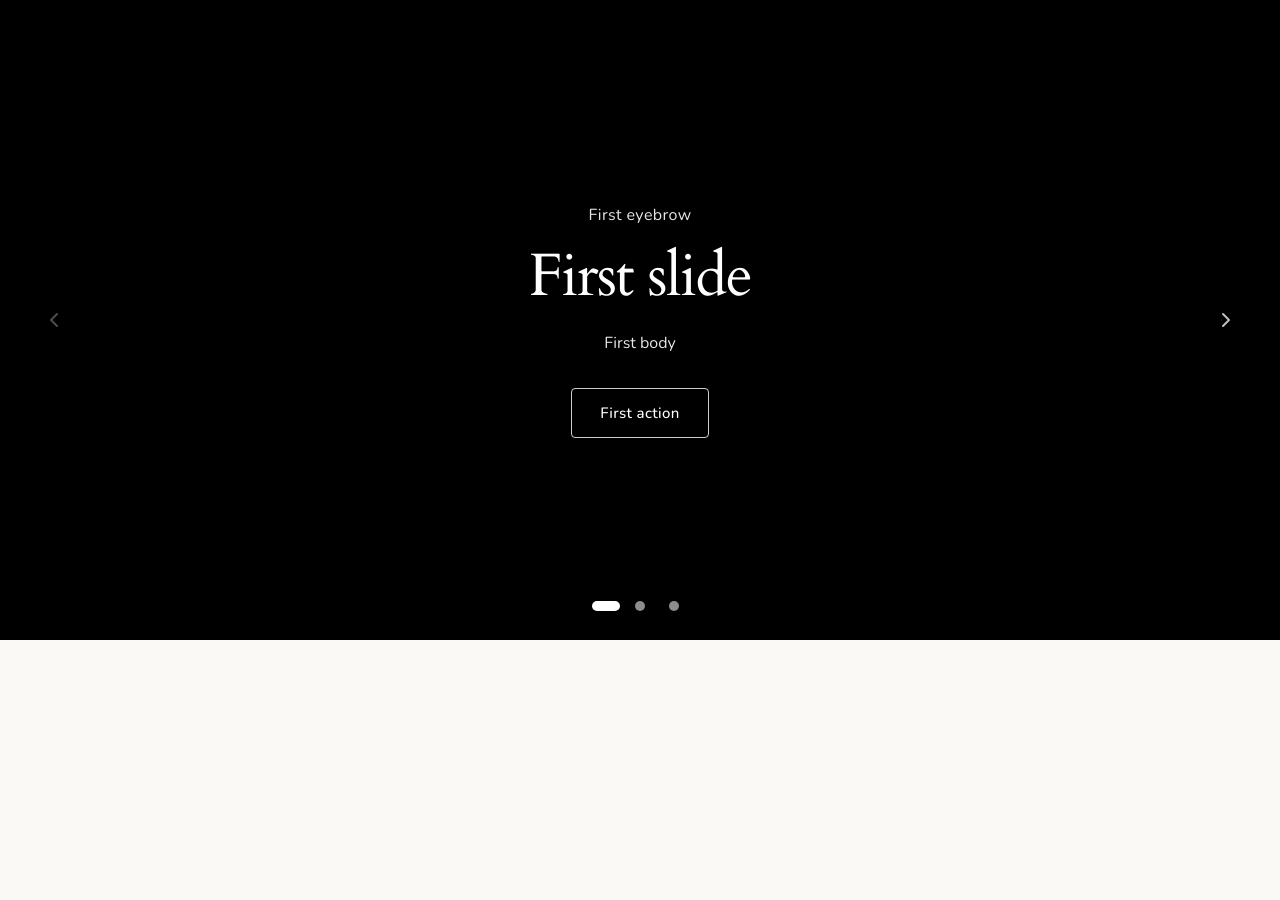
Test: HeroCarousel › advances with the next control and announces the new position
The width and height of the screenshot is (1280, 900).
Click the 2nd button named "Next slide" at [1226, 320], box [1204,298,1248,342]
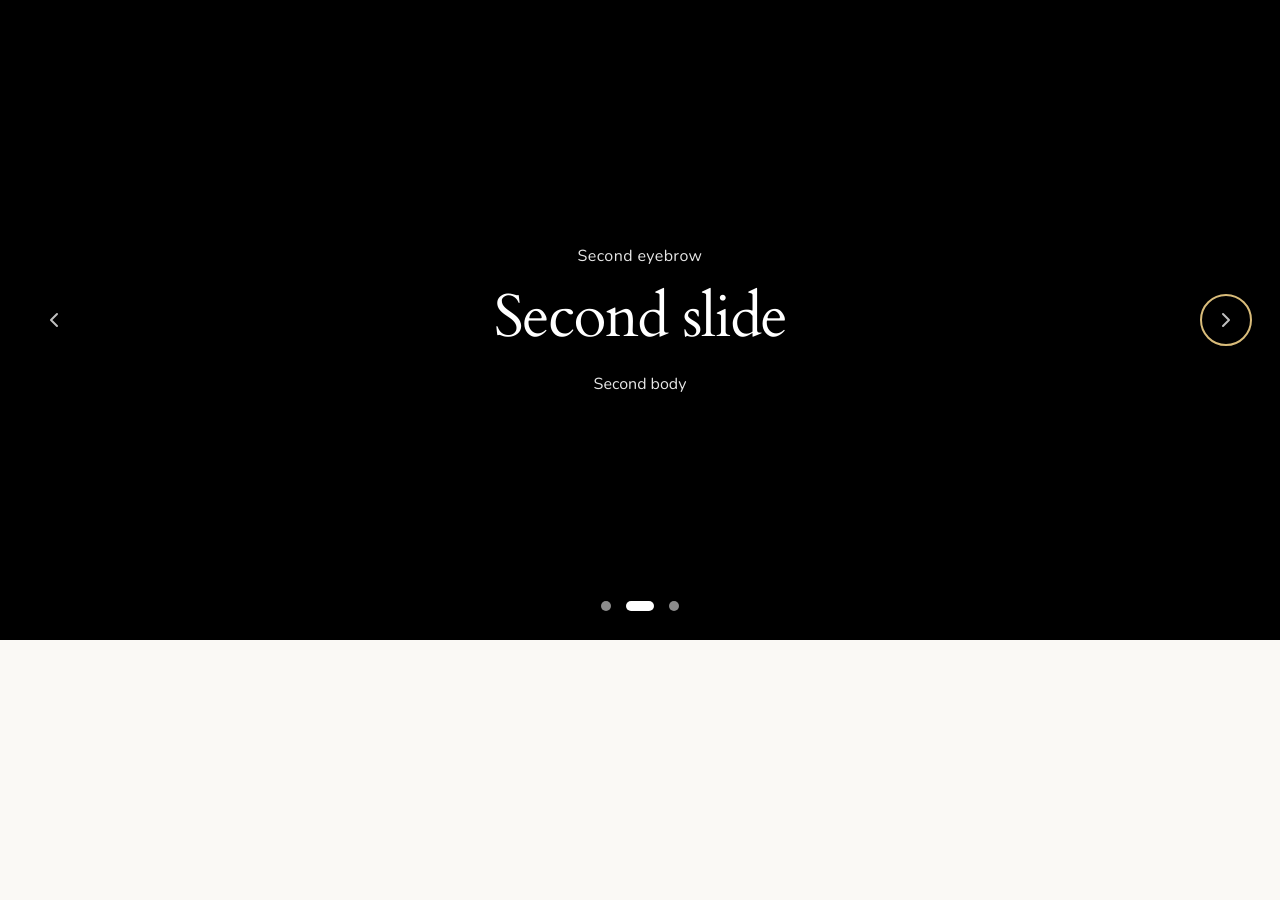
Expected: the text "Second slide" is shown, [494,280,786,354]
